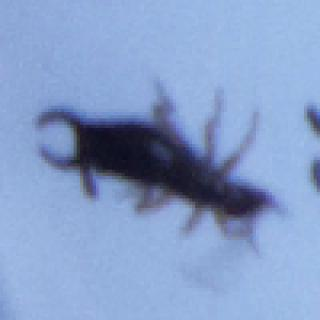earwig: (26, 74, 296, 268)
